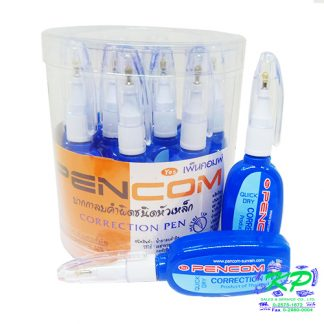Correction_fluid: (52, 227, 294, 301), (217, 48, 288, 237), (107, 47, 157, 166), (59, 35, 102, 158), (171, 42, 214, 161)
